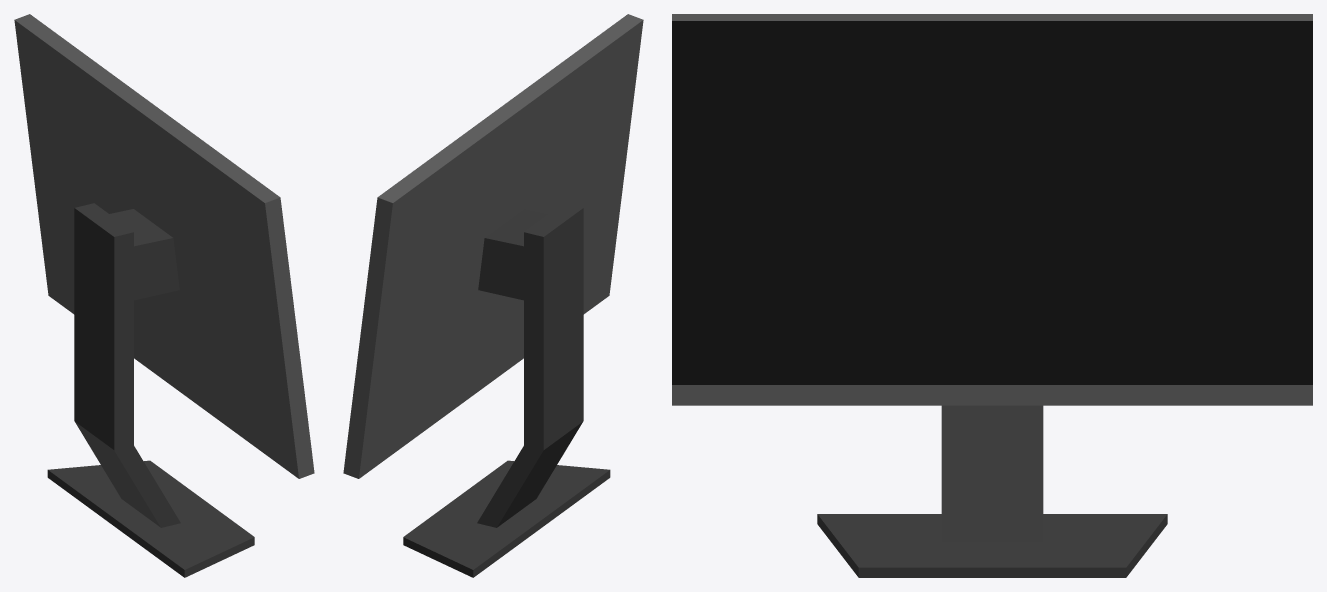
File: Monitor_F.fbx
3 renders of one model, left to right at view 1: azimuth 30°, elevation 25°; view 2: azimuth 150°, elevation 25°; view 3: azimuth 270°, elevation 25°, orthographic. The views are drawn at different scales.
Visible parts, largest first — view 1: BackOfScreen, HIghStand, Base, DiagonalStand, MonitorConnector; view 2: BackOfScreen, HIghStand, Base, DiagonalStand, MonitorConnector; view 3: Screen, BackOfScreen, Base, DiagonalStand.
Part boxes in pixels (bbox=[...]): BackOfScreen: bbox=[14, 14, 314, 478]; HIghStand: bbox=[74, 203, 133, 450]; Base: bbox=[47, 460, 254, 577]; DiagonalStand: bbox=[75, 422, 180, 527]; MonitorConnector: bbox=[109, 209, 179, 300]; BackOfScreen: bbox=[343, 14, 643, 478]; HIghStand: bbox=[524, 203, 583, 450]; Base: bbox=[403, 460, 610, 577]; DiagonalStand: bbox=[477, 422, 582, 527]; MonitorConnector: bbox=[478, 209, 548, 300]; Screen: bbox=[672, 21, 1312, 384]; BackOfScreen: bbox=[672, 14, 1312, 405]; Base: bbox=[817, 514, 1167, 577]; DiagonalStand: bbox=[941, 405, 1043, 541].
Size of the model in its own units: 16.44 by 59.95 by 66.
